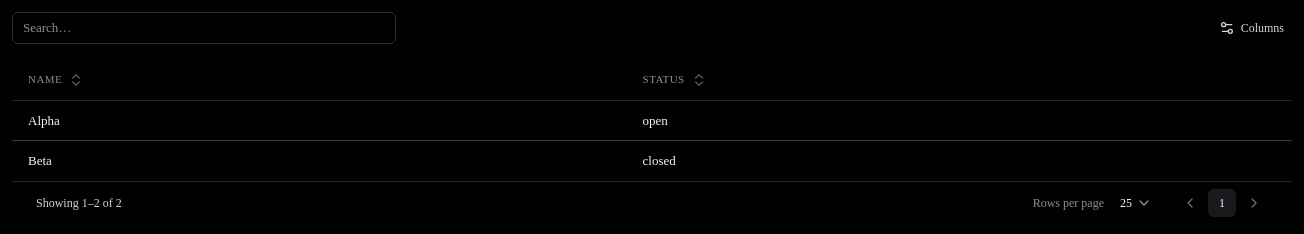
DataTable — global filter › narrows visible rows when user types
Type "alpha" into the field with placeholder "Search…".
click(204, 28); type("alpha")  # box [12, 12, 396, 44]
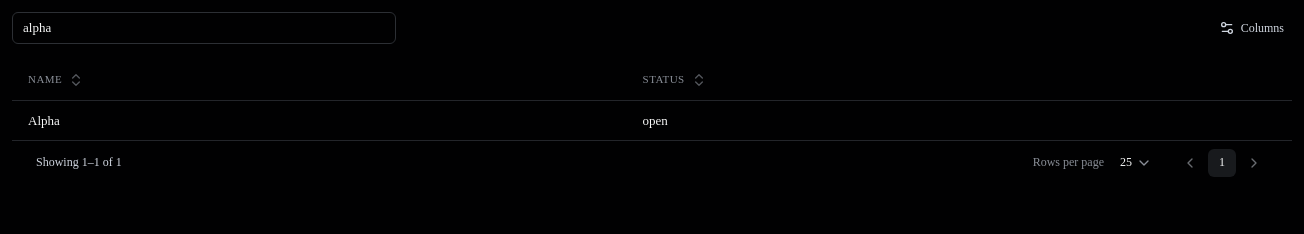
expect the text "Alpha" is shown: met, box [12, 100, 627, 140]
expect the text "Beta" is gone: met
